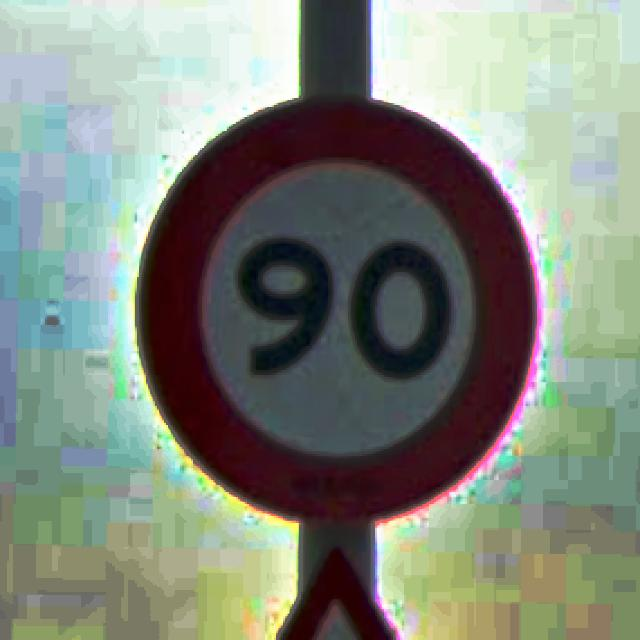max90: (134, 91, 536, 528)
